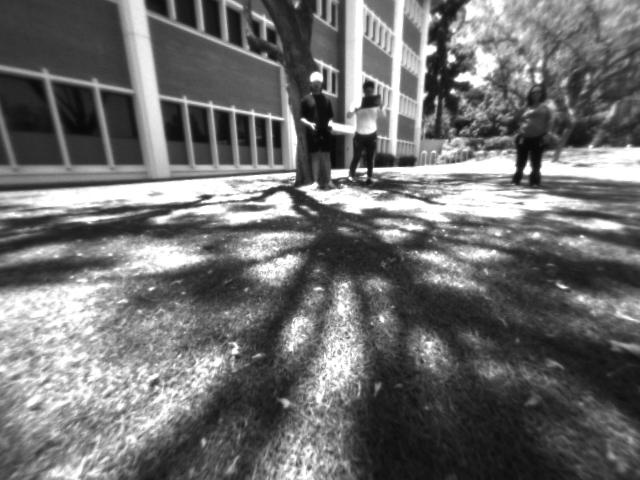dogtoy: (196, 230, 222, 253)
